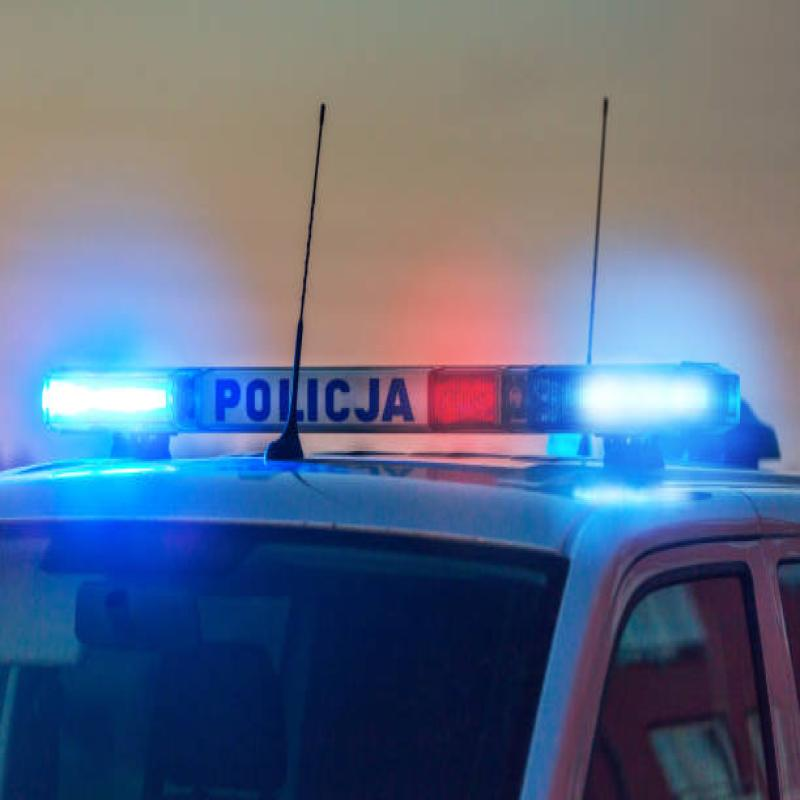AmbulanceSiren: (19, 342, 756, 453)
